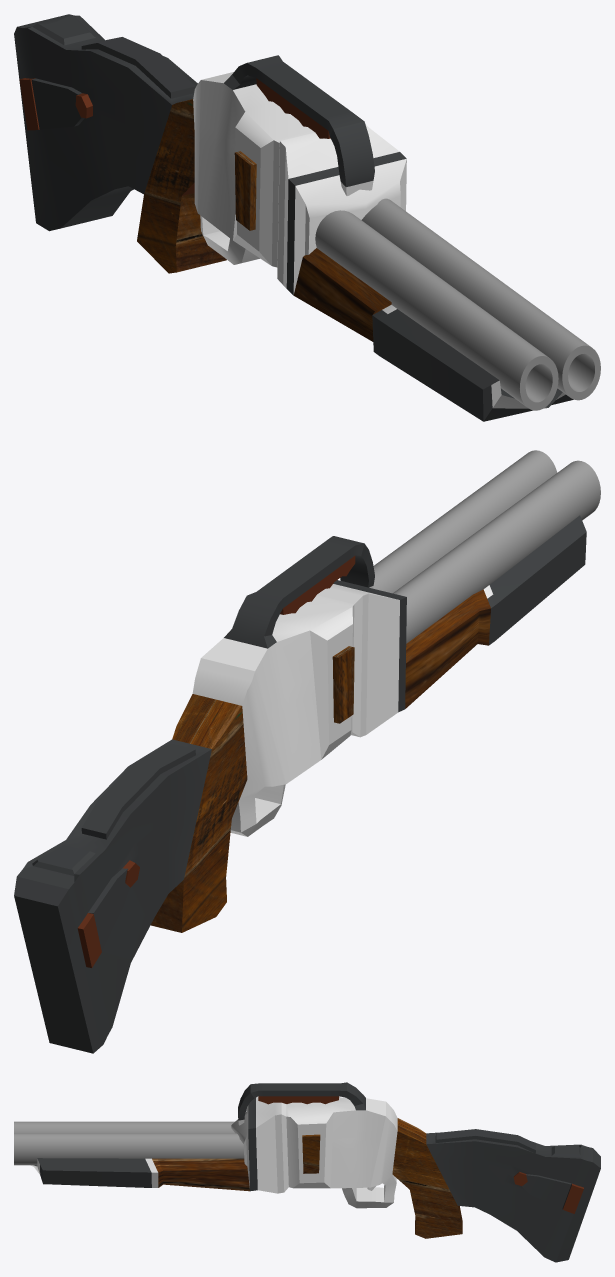
File: shotgun.fbx
3 views of the same model, one above another, from view 1: azimuth 30°, elevation 25°; view 2: azimuth 150°, elevation 25°; view 3: azimuth 270°, elevation 25° (orthographic). The views are drawn at different scales.
Parts seen in each view (by area): view 1: Cube, Cylinder; view 2: Cube, Cylinder; view 3: Cube, Cylinder.
Part boxes in pixels (x1,y1,x2,y2): Cube: (14, 14, 573, 421); Cylinder: (315, 198, 600, 410); Cube: (14, 515, 586, 1053); Cylinder: (373, 450, 600, 643); Cube: (30, 1082, 600, 1262); Cylinder: (14, 1121, 244, 1165).
Size of the model in its own units: 60.27 by 146 by 459.
